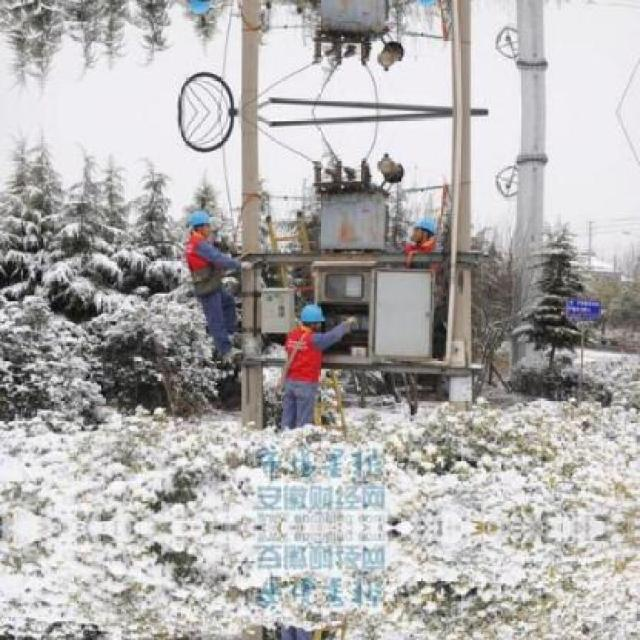helmet: (298, 298, 324, 329), (188, 207, 212, 236), (412, 214, 434, 238), (188, 0, 214, 15), (411, 0, 435, 9)
